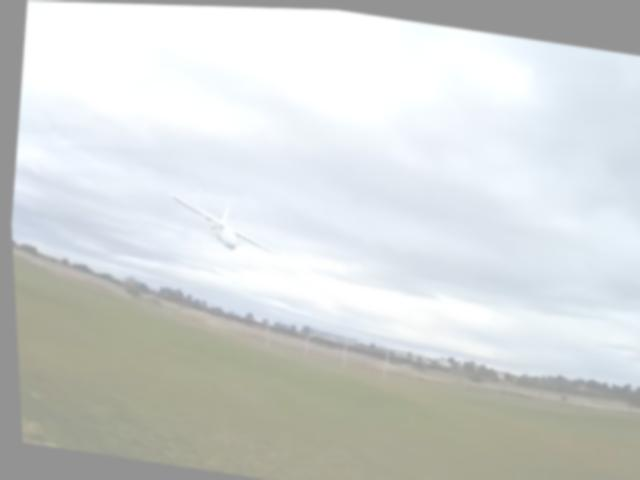uav: (161, 181, 286, 262)
